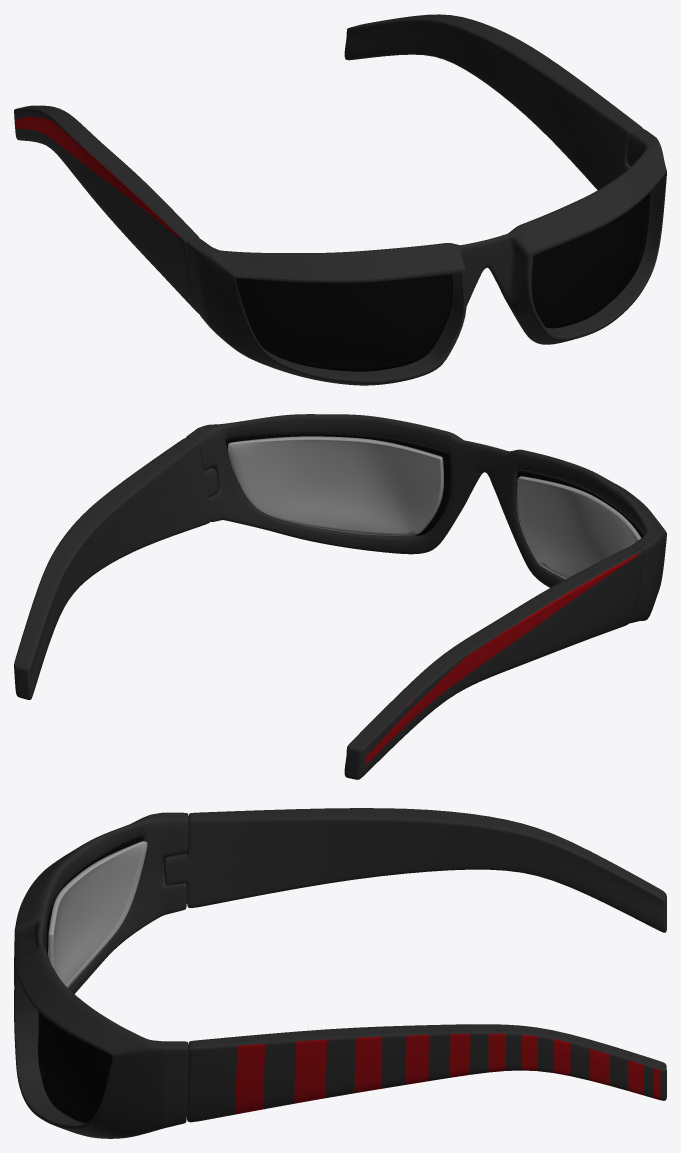
File: cobarayban.glb
3 renders of one model, top to bottom at view 1: azimuth 30°, elevation 25°; view 2: azimuth 150°, elevation 25°; view 3: azimuth 270°, elevation 25°, orthographic. The views are drawn at different scales.
Parts seen in each view (by area): view 1: Frame_Front, Temple_Right, LensOuter_Left, Temple_Left, LensOuter_Right; view 2: Frame_Front, LensOuter_Right, LensInner_Right, Temple_Left, Temple_Right, LensOuter_Left, LensInner_Left; view 3: Temple_Left, Temple_Right, Frame_Front, LensInner_Left, LensOuter_Left, LensOuter_Right.
Part boxes in pixels (x1,y1,x2,y2): Frame_Front: (186, 129, 666, 385); Temple_Right: (344, 14, 643, 190); LensOuter_Left: (236, 274, 452, 371); Temple_Left: (14, 105, 199, 313); LensOuter_Right: (531, 192, 650, 328); Frame_Front: (186, 414, 666, 623); LensOuter_Right: (226, 433, 451, 535); LensInner_Right: (228, 436, 443, 535); Temple_Left: (344, 546, 643, 779); Temple_Right: (14, 438, 218, 699); LensOuter_Left: (516, 470, 643, 577); LensInner_Left: (517, 476, 640, 578); Temple_Left: (163, 808, 666, 932); Temple_Right: (186, 1024, 666, 1122); Frame_Front: (14, 812, 188, 1138); LensInner_Left: (48, 841, 147, 987); LensOuter_Left: (46, 837, 143, 984); LensOuter_Right: (38, 1012, 111, 1123).
Size of the model in its own units: 0.1561 by 0.0444 by 0.1825.
